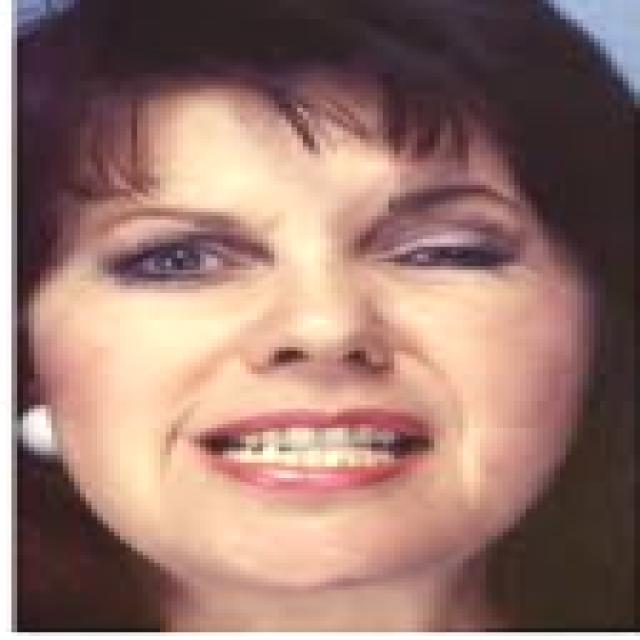stroke_face: (27, 13, 616, 590)
